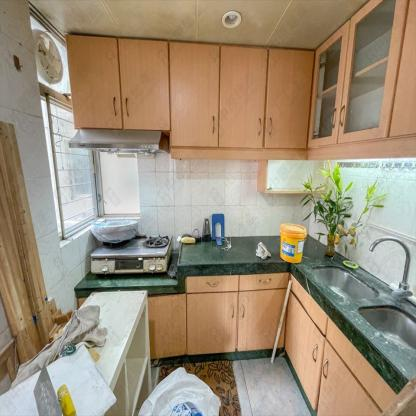Cupboard: (69, 0, 416, 160), (187, 274, 396, 415)
Exhaust Fan: (33, 26, 64, 84)
Exhaust Hood: (68, 127, 169, 158)
Faucet: (367, 233, 411, 299)
Sink: (359, 305, 416, 348), (312, 265, 378, 300)
Stove: (86, 234, 172, 272)
